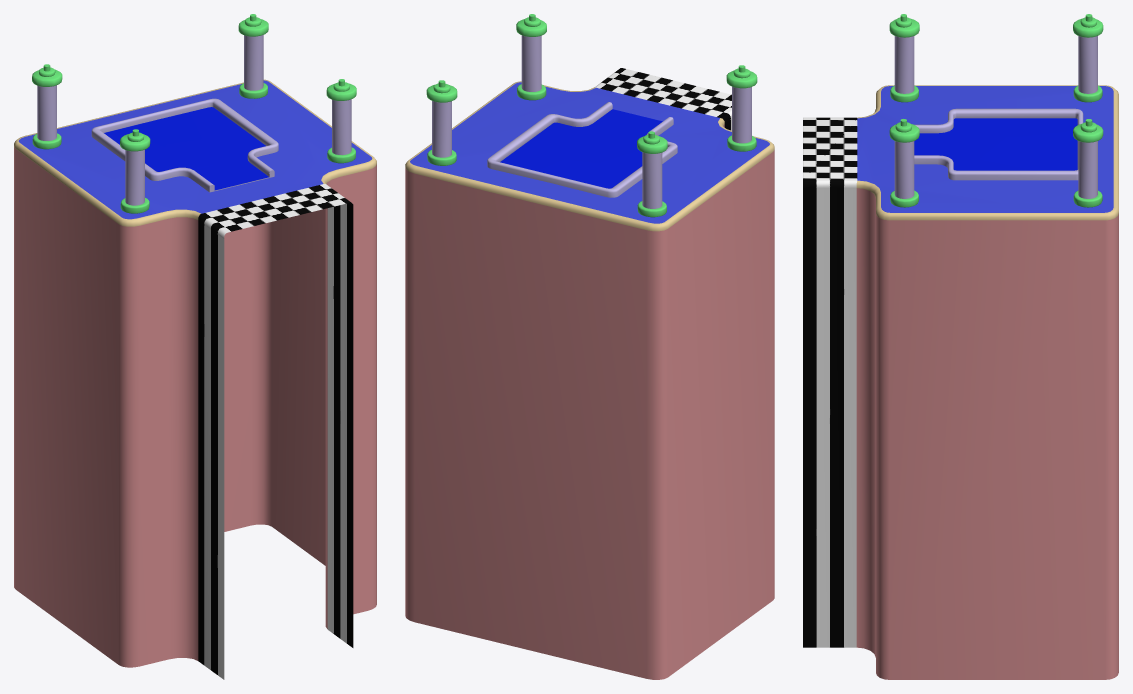
File: M_levelend.fbx
3 renders of one model, left to right at view 1: azimuth 30°, elevation 25°; view 2: azimuth 150°, elevation 25°; view 3: azimuth 270°, elevation 25°, orthographic. The views are drawn at different scales.
Visible parts, largest first — view 1: FinishPlatform, FinishZone, Column; view 2: FinishPlatform, FinishZone, Column; view 3: FinishPlatform, FinishZone, Column.
Boxes of the visible parts, x1=… form: FinishPlatform: x1=14, y1=79, x2=376, y2=679; FinishZone: x1=91, y1=98, x2=278, y2=192; Column: x1=32, y1=14, x2=356, y2=213; FinishPlatform: x1=405, y1=68, x2=774, y2=679; FinishZone: x1=487, y1=102, x2=677, y2=197; Column: x1=426, y1=14, x2=757, y2=217; FinishPlatform: x1=803, y1=85, x2=1118, y2=679; FinishZone: x1=914, y1=108, x2=1083, y2=180; Column: x1=889, y1=14, x2=1103, y2=207.
Size of the model in its own units: 11.91 by 23.24 by 12.18.
